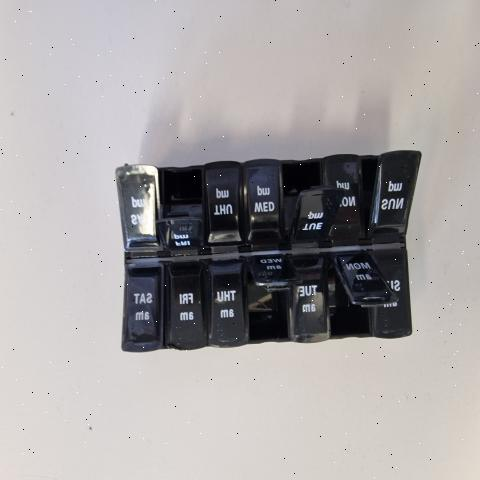Open: (324, 254, 398, 338), (245, 259, 301, 341), (285, 164, 345, 240), (158, 168, 204, 246), (361, 157, 378, 239), (160, 264, 169, 352)
